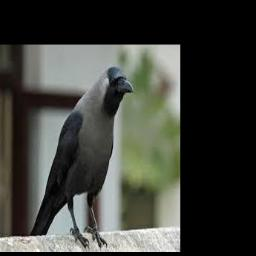Crow: (29, 66, 134, 250)
